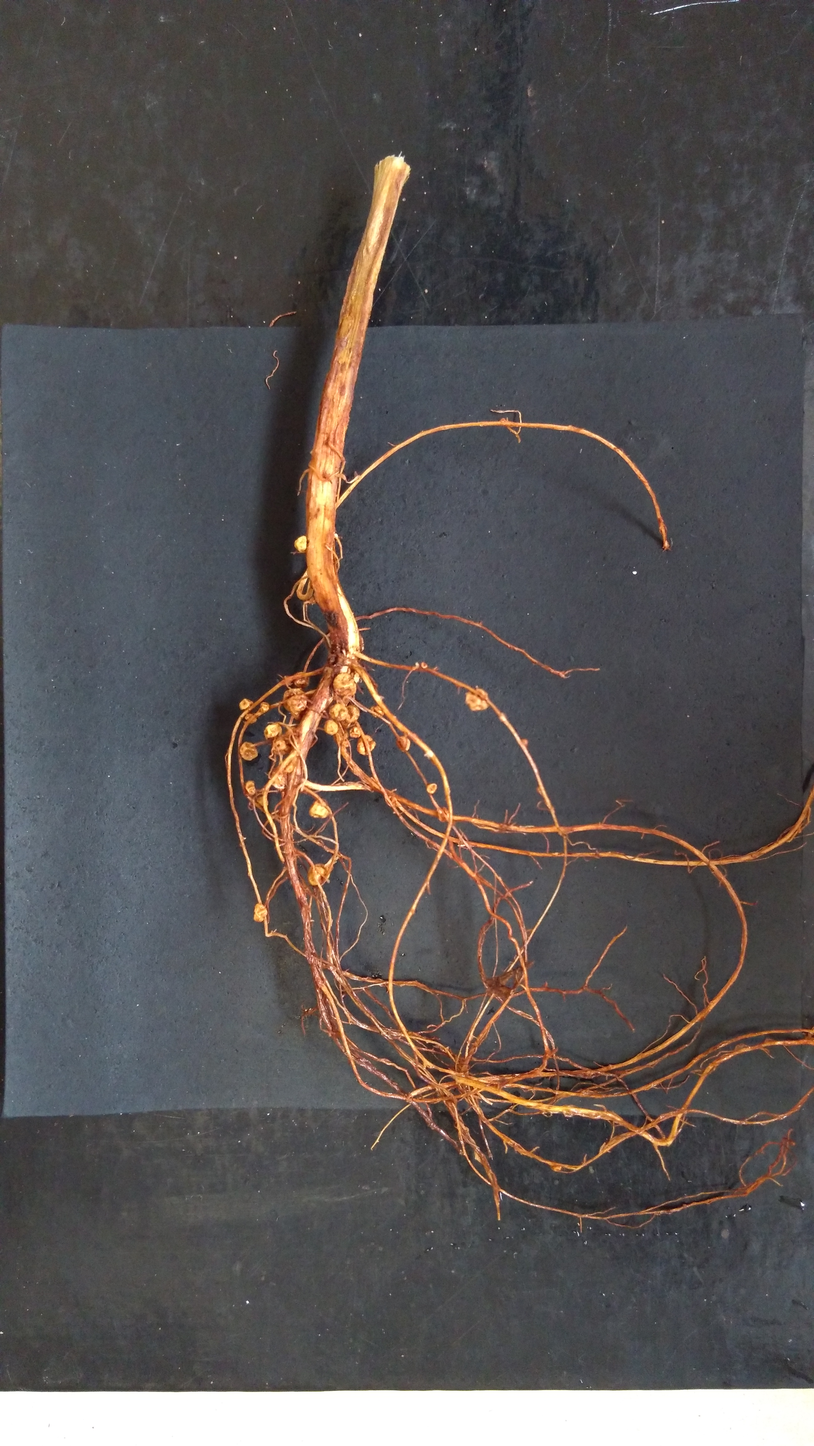nodule: (464, 684, 493, 715), (281, 685, 309, 713), (306, 862, 335, 889), (272, 725, 298, 754), (332, 670, 358, 697), (307, 795, 334, 820), (267, 764, 287, 791), (326, 700, 349, 723), (238, 740, 261, 763), (356, 732, 377, 757), (393, 731, 413, 755), (262, 721, 284, 741), (251, 901, 269, 924), (344, 702, 361, 725), (292, 670, 312, 688), (323, 716, 340, 737), (283, 754, 300, 774), (293, 533, 308, 553), (437, 805, 452, 823), (367, 704, 386, 718), (243, 778, 257, 796), (346, 725, 362, 740), (237, 697, 254, 711), (257, 699, 271, 715), (425, 780, 437, 796), (245, 712, 257, 723), (551, 1164, 563, 1173), (521, 738, 528, 746)
